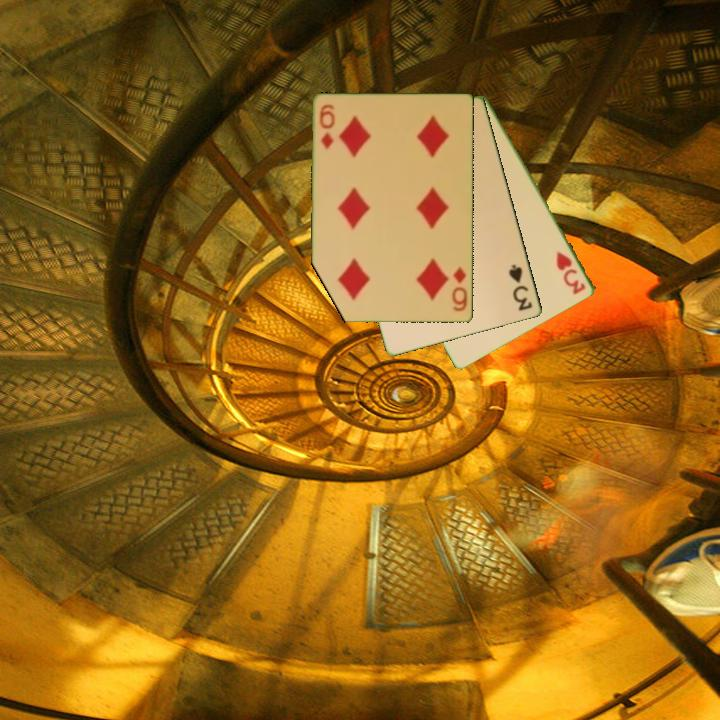3h: (553, 248, 589, 298)
3s: (505, 261, 536, 314)
6d: (316, 101, 338, 152), (449, 264, 470, 314)
